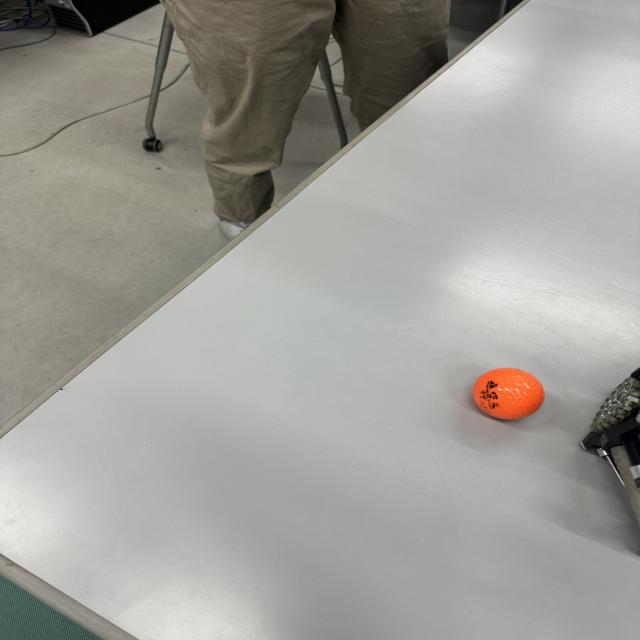ball: (470, 366, 548, 423)
